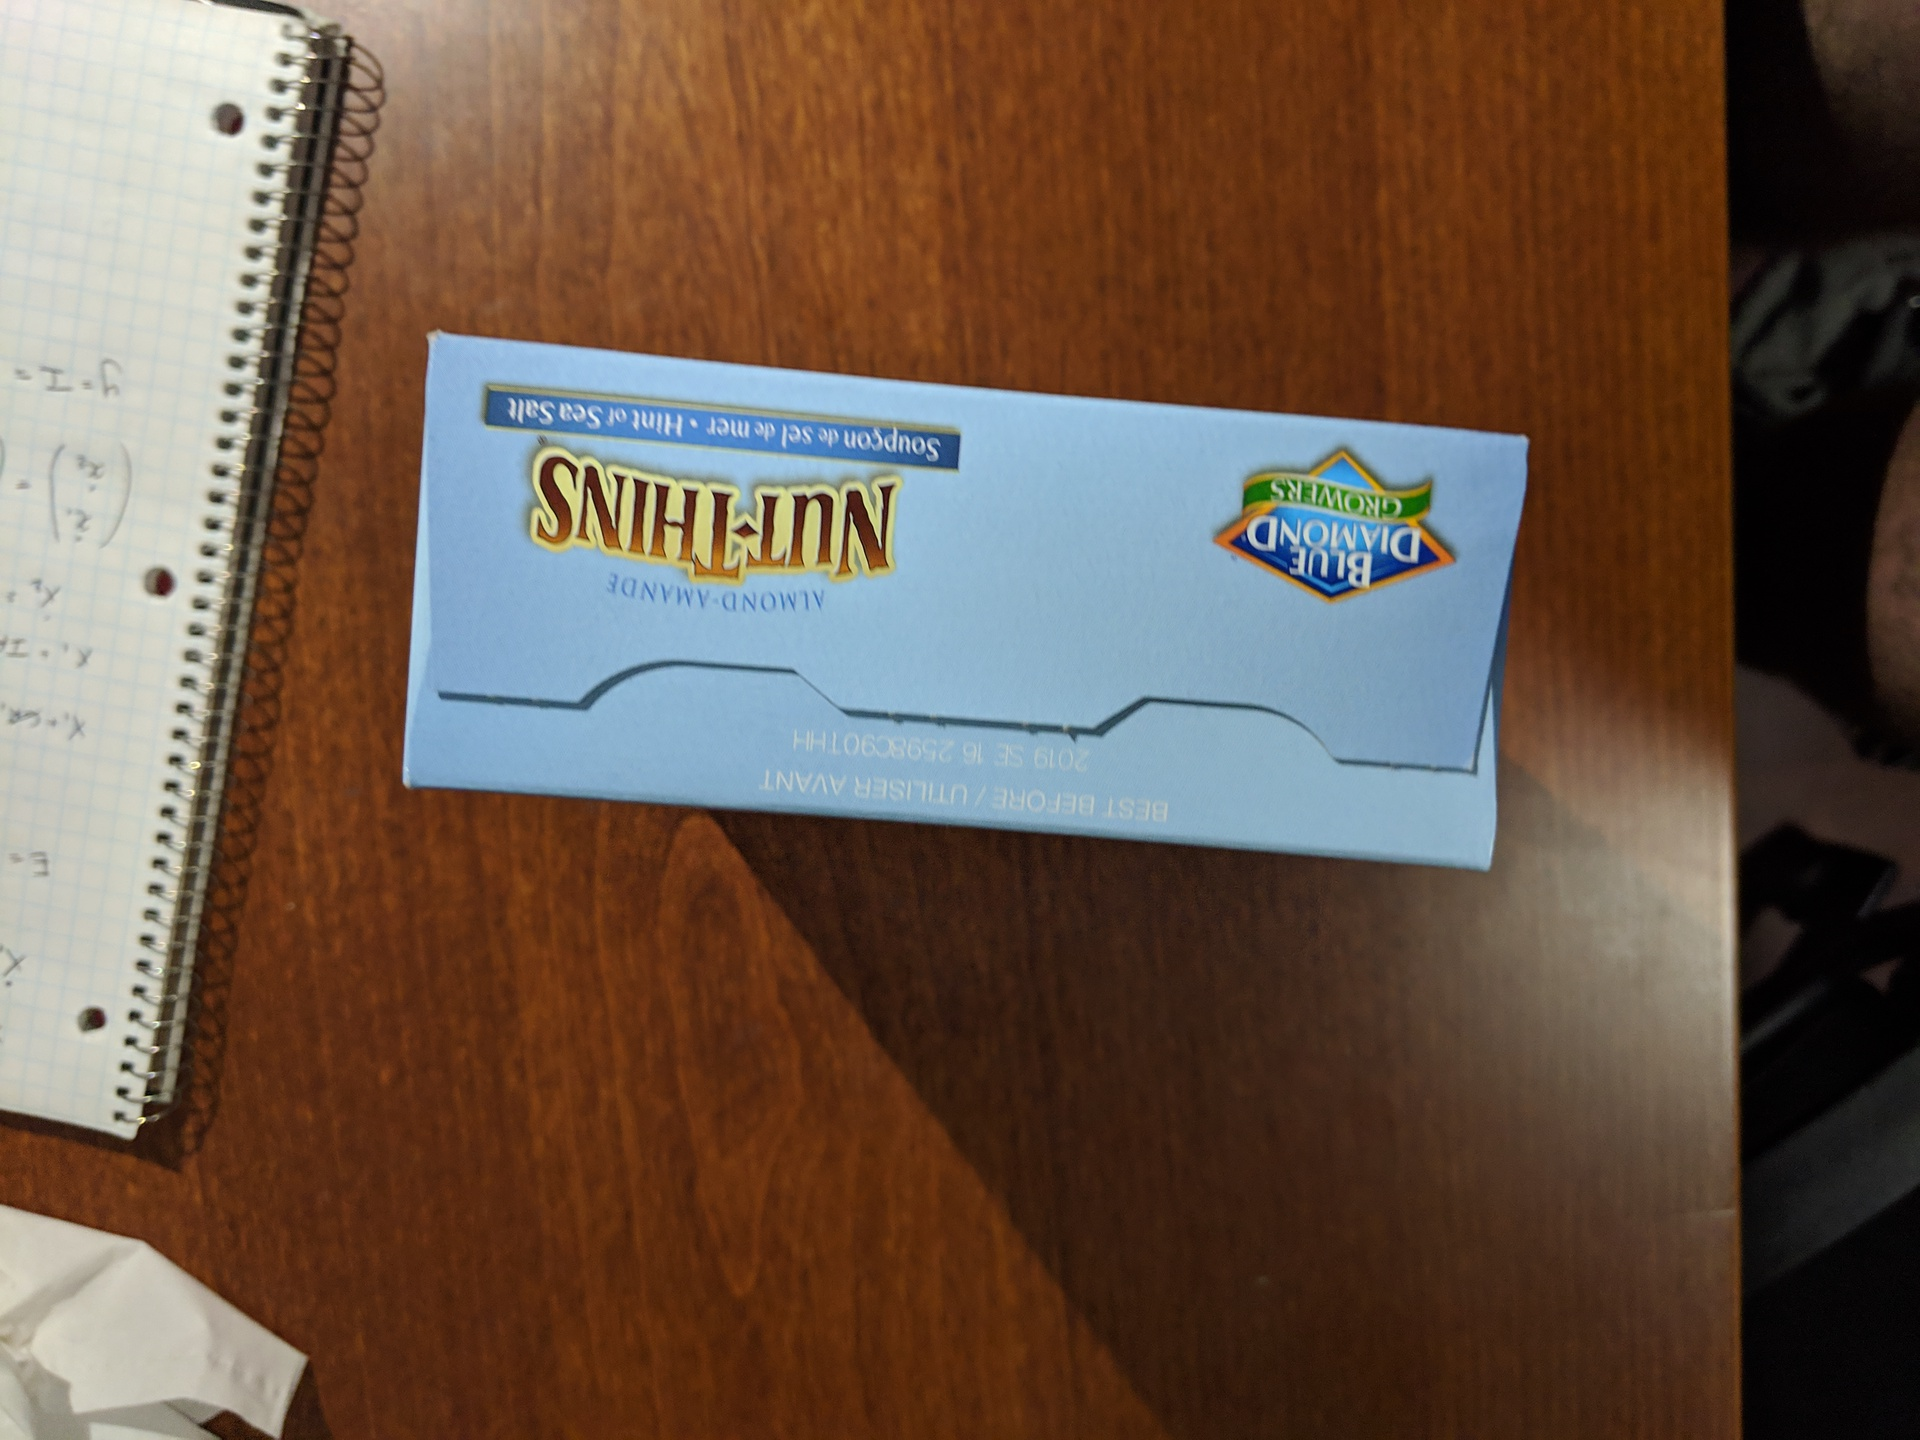blue_diamond_nut_thins_almond_seasalt: (417, 330, 1522, 868)
